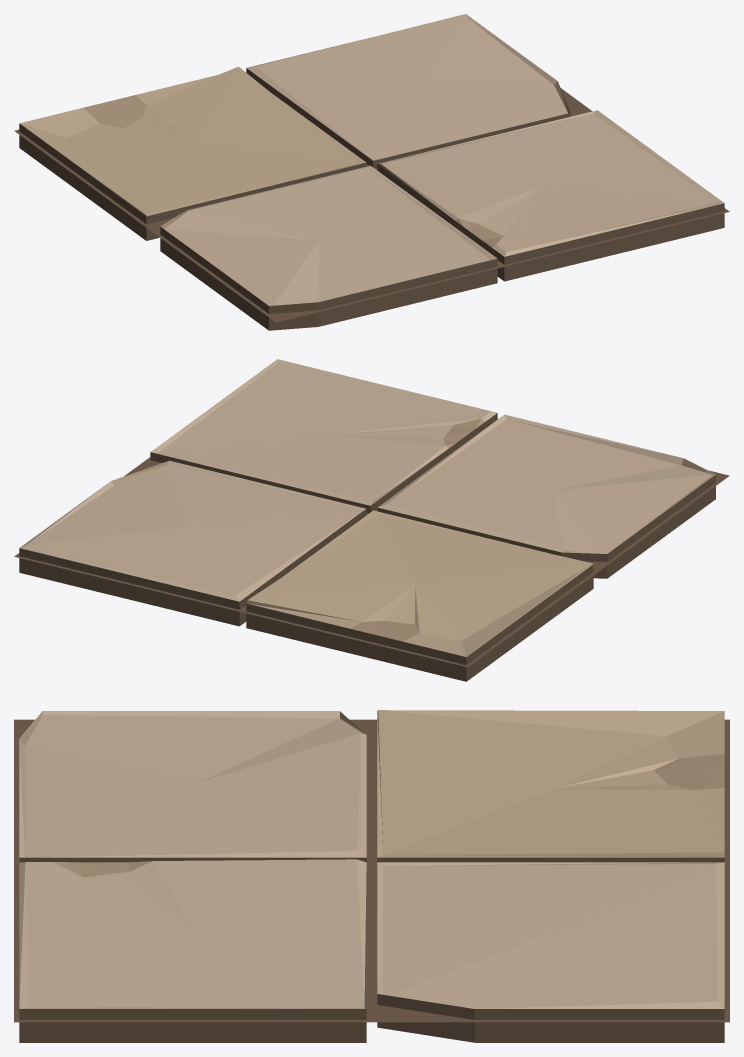
File: SM_Ground_PavingTile_04.fbx
The picture shows the model from 3 angles, top to bottom: view 1: azimuth 30°, elevation 25°; view 2: azimuth 150°, elevation 25°; view 3: azimuth 270°, elevation 25°; orthographic projection. The views are drawn at different scales.
Parts seen in each view (by area): view 1: SM_Ground_PavingTile_04; view 2: SM_Ground_PavingTile_04; view 3: SM_Ground_PavingTile_04.
Part boxes in pixels (x1,y1,x2,y2): SM_Ground_PavingTile_04: (14, 14, 729, 330); SM_Ground_PavingTile_04: (14, 359, 729, 681); SM_Ground_PavingTile_04: (14, 710, 729, 1042).
Bounding box in the file's own units: 1 × 0.0591 × 1.
Materials: 1 (1 with a texture image).
